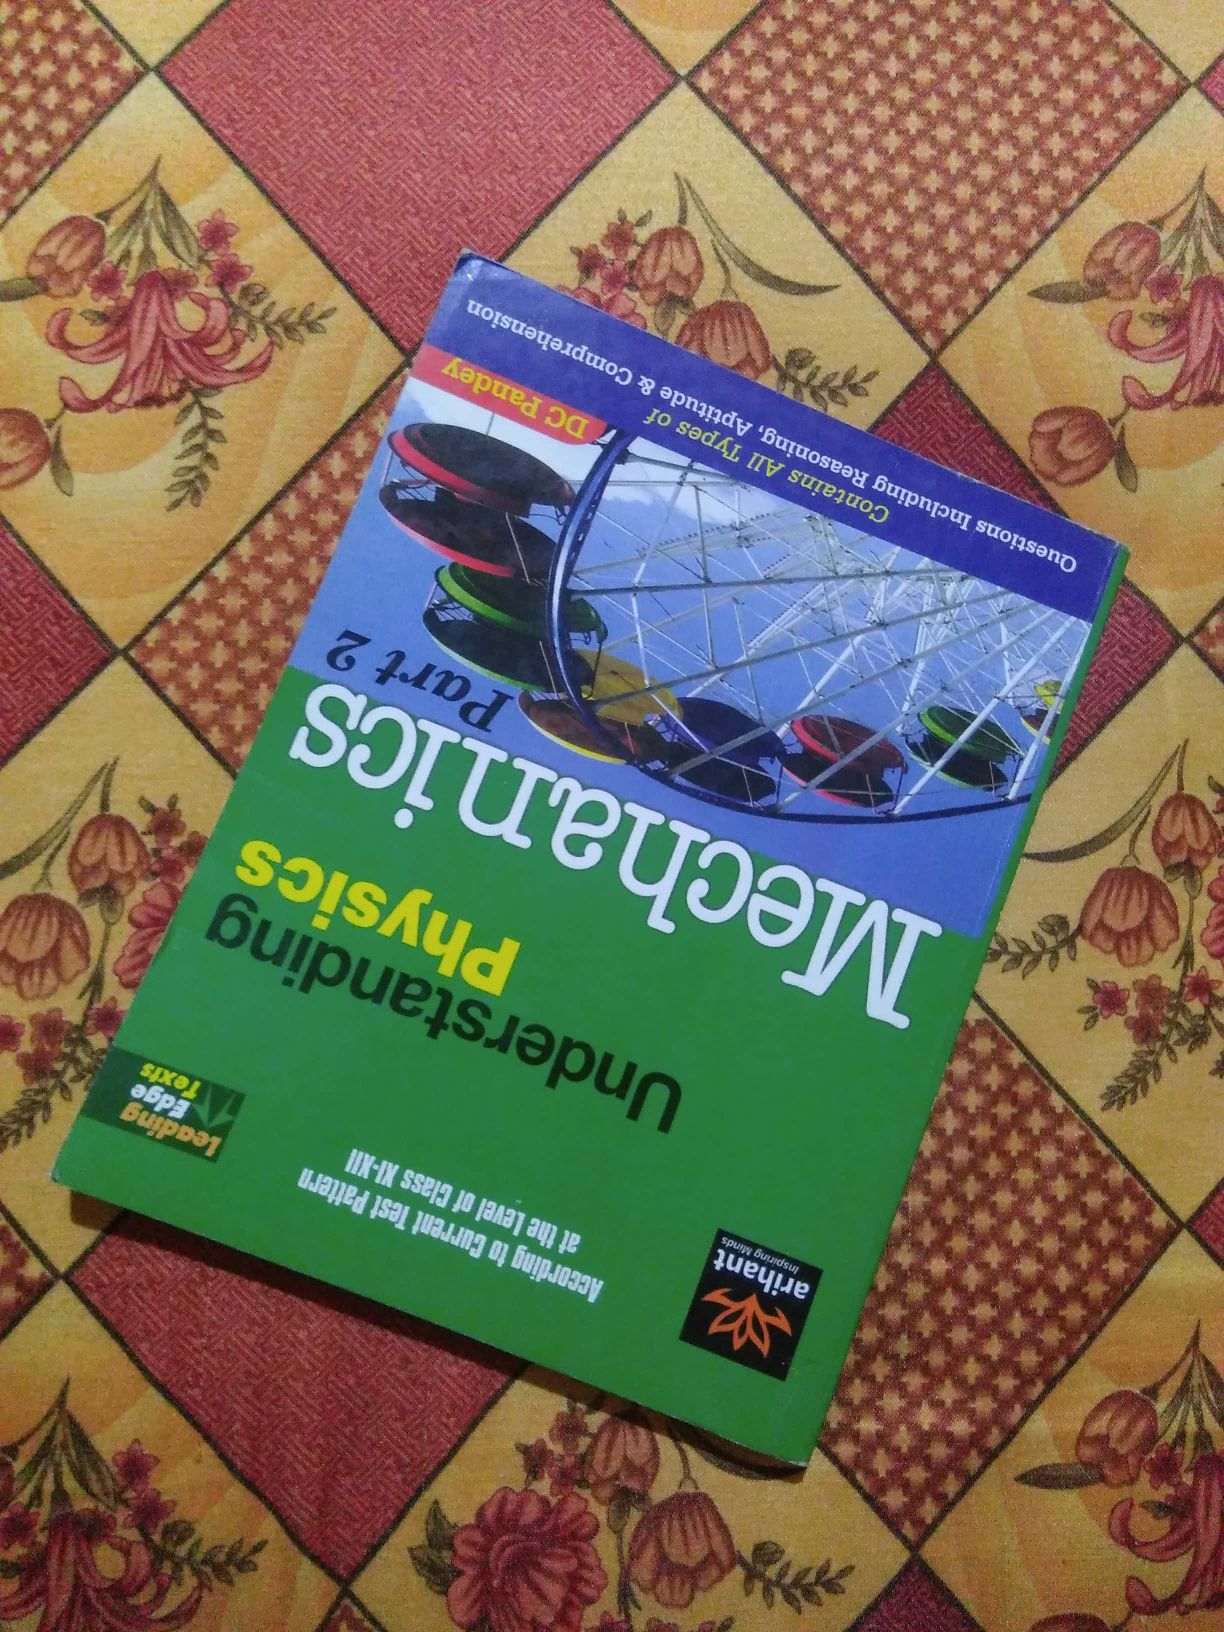mechanics: (134, 296, 1131, 1509)
